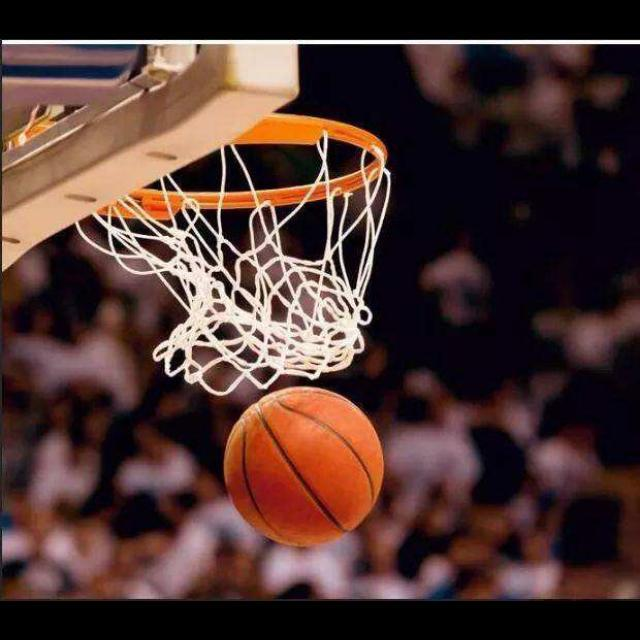basketball: (226, 387, 382, 548)
rim: (96, 110, 387, 390)
